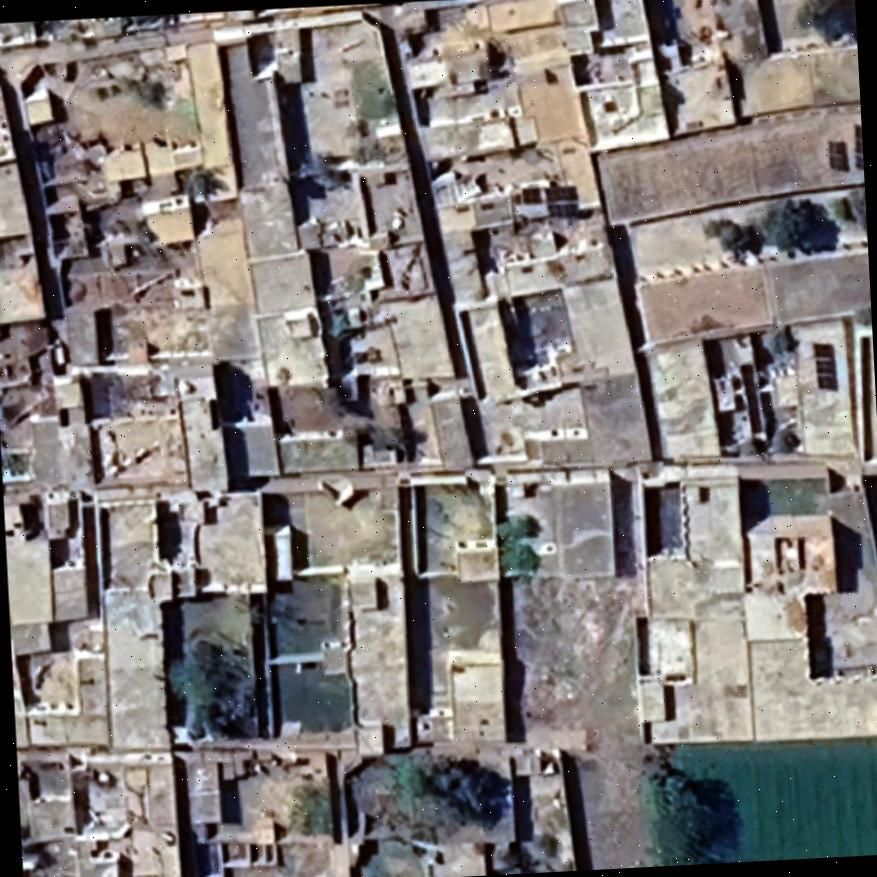Solarpanel: (808, 336, 843, 396), (849, 120, 864, 174)
